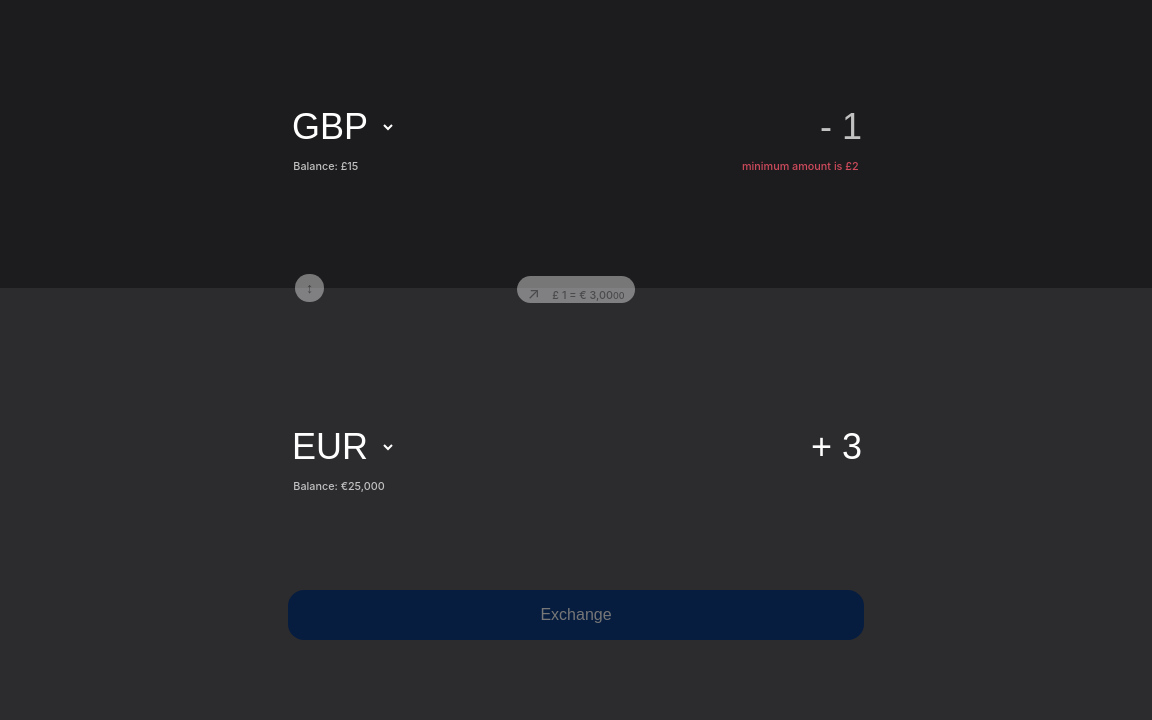
it: CurrencyExchangeApp › gives user useful messages around such as "minimum required" and "balance exceeding"
This screenshot has width=1152, height=720.
Replace the text in the field with test id "amount-from-el" with "0,15" at (634, 127), box [404,105,864,149]
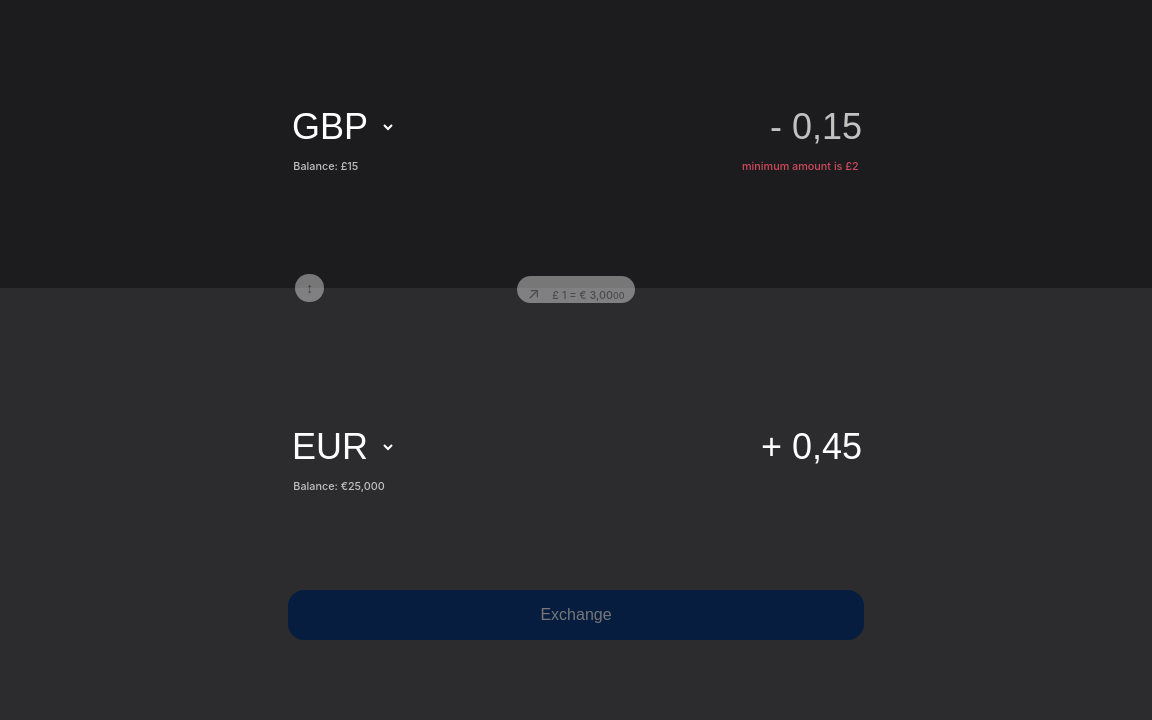
Expected: the text "minimum amount is £2" is shown, [742,160,859,172]
Replace the text in the field with test id "amount-from-el" with "10" at (634, 127), box [404,105,864,149]
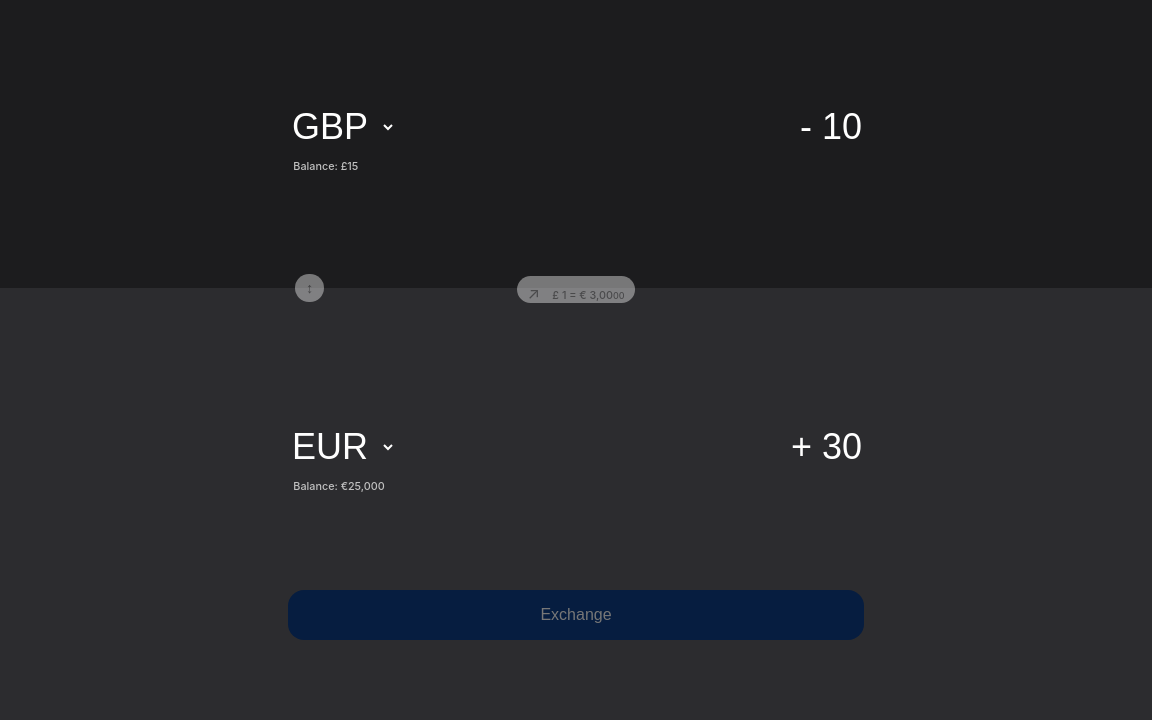
Replace the text in the field with test id "amount-from-el" with "20" at (634, 127), box [404,105,864,149]
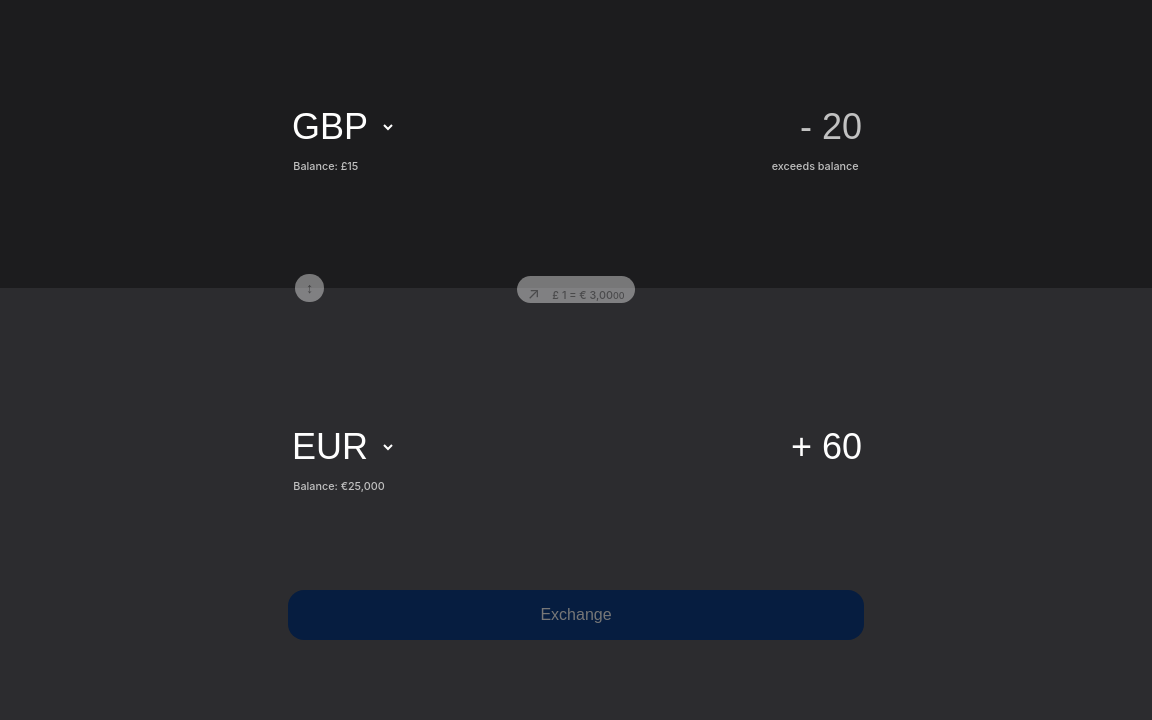
Expected: the text "exceeds balance" is shown, [772,160,859,172]
